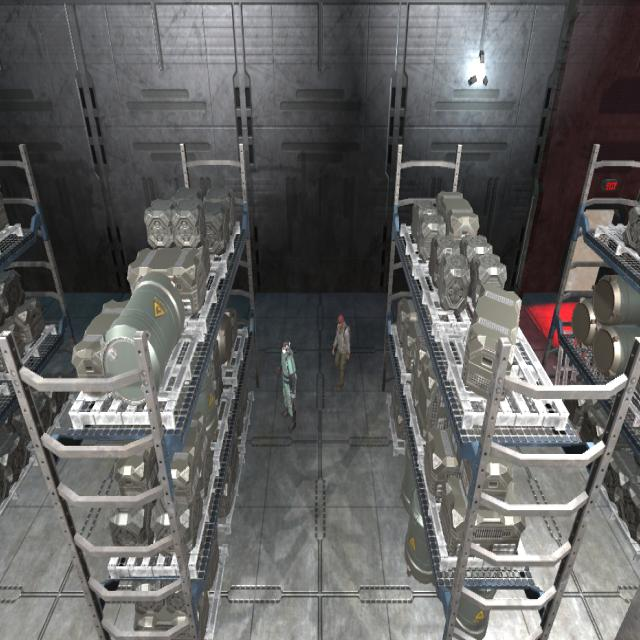thiefs: (330, 312, 352, 394)
